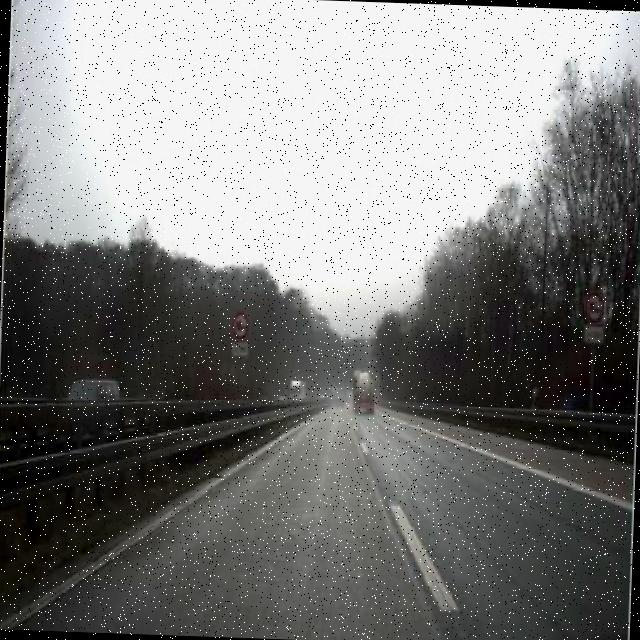Zakaz wyprzedzania: (581, 286, 608, 327), (230, 308, 252, 340)
